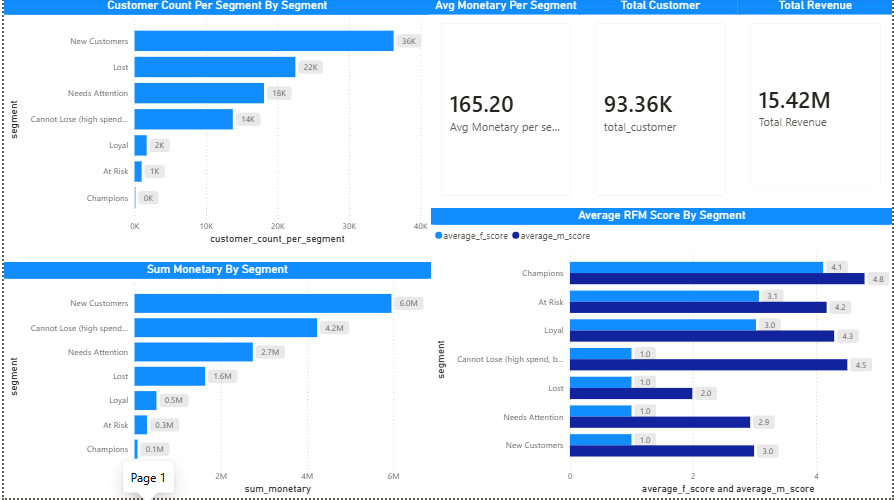

Layout of this report page (visuals, bound fields, positions):
{"tool":"powerbi","page":{"name":"Page 1","canvas":[1280,720],"ordinal":0},"visuals":[{"type":"barChart","title":"Customer Count Per Segment By Segment","fields":{"Y":["Table.customer_count_per_segment"],"Category":["rfm_segmented_customers.segment"]},"box":[0,0,614.9,360],"z":0},{"type":"barChart","title":"Sum Monetary By Segment","fields":{"Y":["Table.sum_monetary"],"Category":["rfm_segmented_customers.segment"]},"box":[0,380.2,614.9,339.8],"z":1000},{"type":"cardVisual","title":"Total Revenue","fields":{"Data":["Table.Total Revenue"]},"box":[1057,0,223.2,290.9],"z":2000},{"type":"clusteredBarChart","title":"Average RFM Score By Segment","fields":{"Category":["rfm_segmented_customers.segment"],"Y":["Table.average_f_score","Table.average_m_score"]},"box":[614.9,302.4,665.3,417.6],"z":3000},{"type":"cardVisual","title":"Avg Monetary Per Segment","fields":{"Data":["Table.Avg Monetary per segment"]},"box":[612,0,221.8,302.4],"z":4000},{"type":"cardVisual","title":"Total Customer","fields":{"Data":["Table.total_customer"]},"box":[833.8,0,223.2,302.4],"z":5000}]}

Visuals, with their boxes in screenshot pixels (x1, y1, x2, y2), scaled from the page's 1280x720 canvas onto the 896x500 screenshot:
"Customer Count Per Segment By Segment" barChart: left=0, top=0, right=430, bottom=250
"Sum Monetary By Segment" barChart: left=0, top=264, right=430, bottom=499
"Total Revenue" cardVisual: left=740, top=0, right=895, bottom=202
"Average RFM Score By Segment" clusteredBarChart: left=430, top=210, right=895, bottom=499
"Avg Monetary Per Segment" cardVisual: left=428, top=0, right=584, bottom=210
"Total Customer" cardVisual: left=584, top=0, right=740, bottom=210
